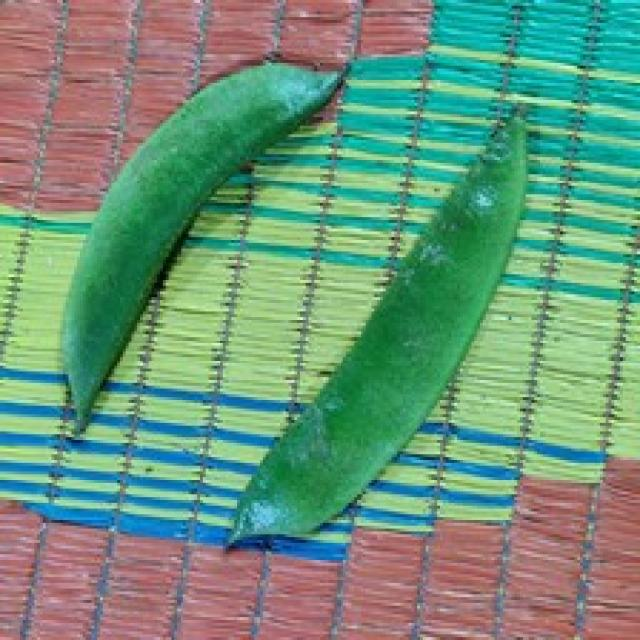Bean: (223, 100, 528, 551), (60, 57, 349, 432)
